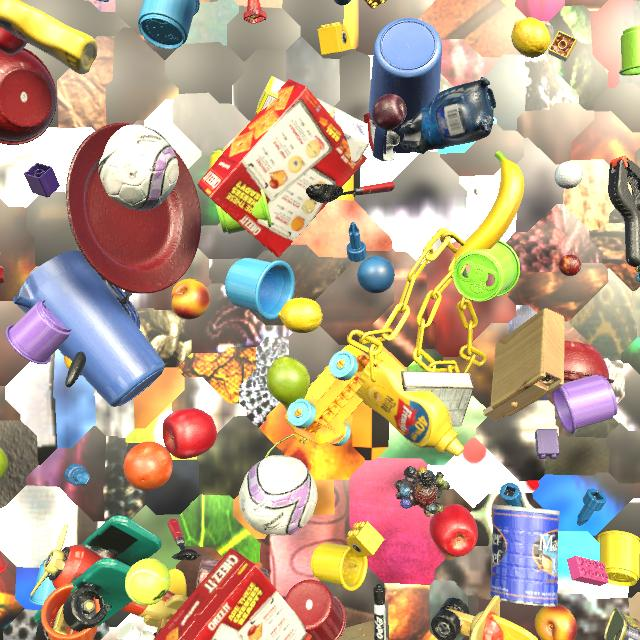ycb_002_master_chef_can: (490, 505, 560, 607)
ycb_003_cracker_box: (197, 79, 367, 257), (154, 548, 312, 640)
ycb_004_sugar_box: (255, 76, 369, 163)
ycb_006_mustard_bottle: (355, 352, 464, 457), (0, 0, 97, 74)
ycb_008_pudding_box: (401, 371, 474, 426), (196, 557, 270, 588)
ycb_010_potted_meat_can: (604, 608, 640, 640)
ycb_011_banana: (451, 151, 524, 263)
ycb_013_apple: (162, 408, 217, 459), (429, 504, 478, 557), (0, 27, 27, 55)
ycb_014_lemon: (511, 18, 551, 58), (278, 298, 323, 333)
ycb_015_peach: (171, 279, 210, 320), (535, 604, 577, 640), (64, 356, 81, 375)
ycb_016_pear: (266, 356, 310, 411), (0, 448, 8, 480)
ycb_017_orange: (124, 442, 173, 491)
ycb_018_plum: (372, 94, 407, 131)
